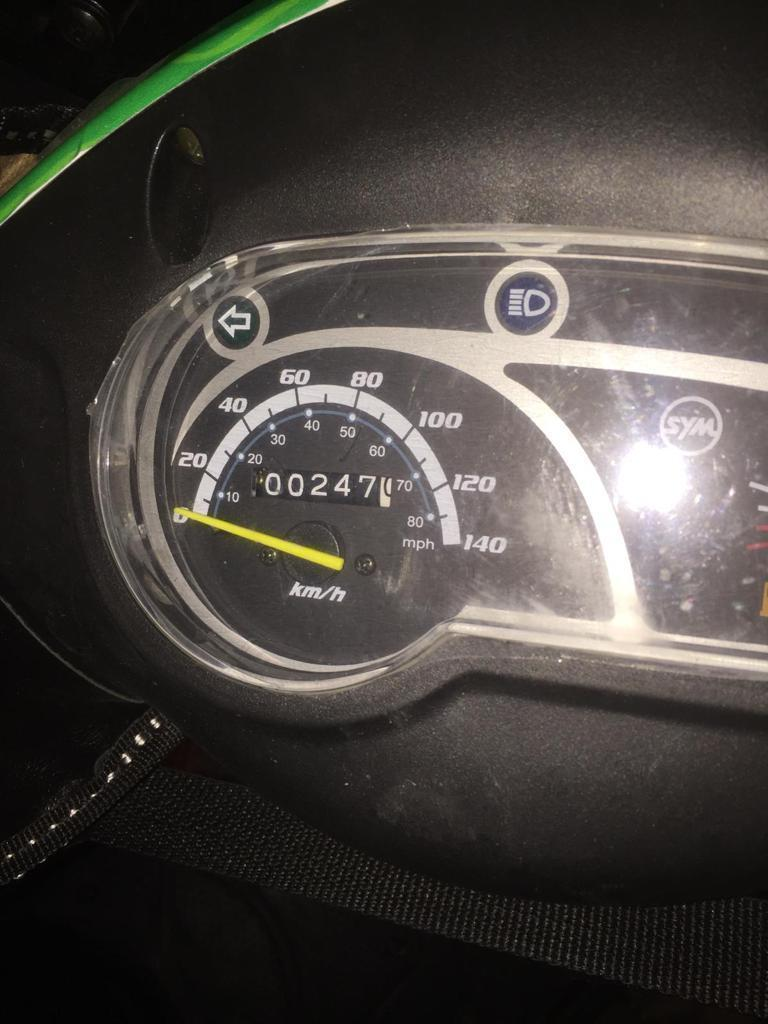0: (285, 472, 306, 500), (261, 470, 282, 498), (384, 474, 395, 499)
2: (309, 470, 328, 499)
4: (333, 472, 352, 497)
7: (356, 471, 375, 498)
odometer: (249, 465, 398, 508)
